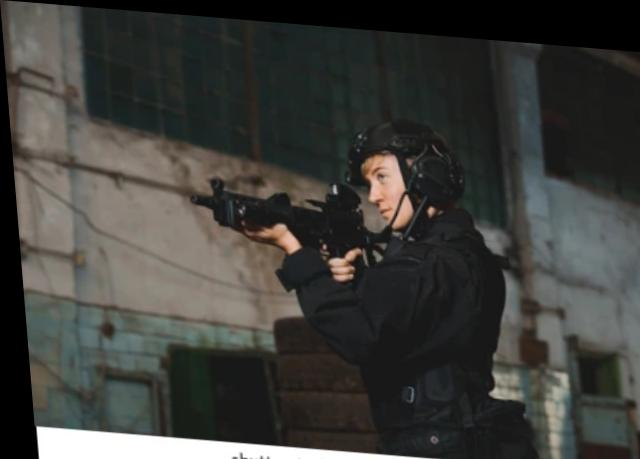other: (314, 112, 505, 453)
